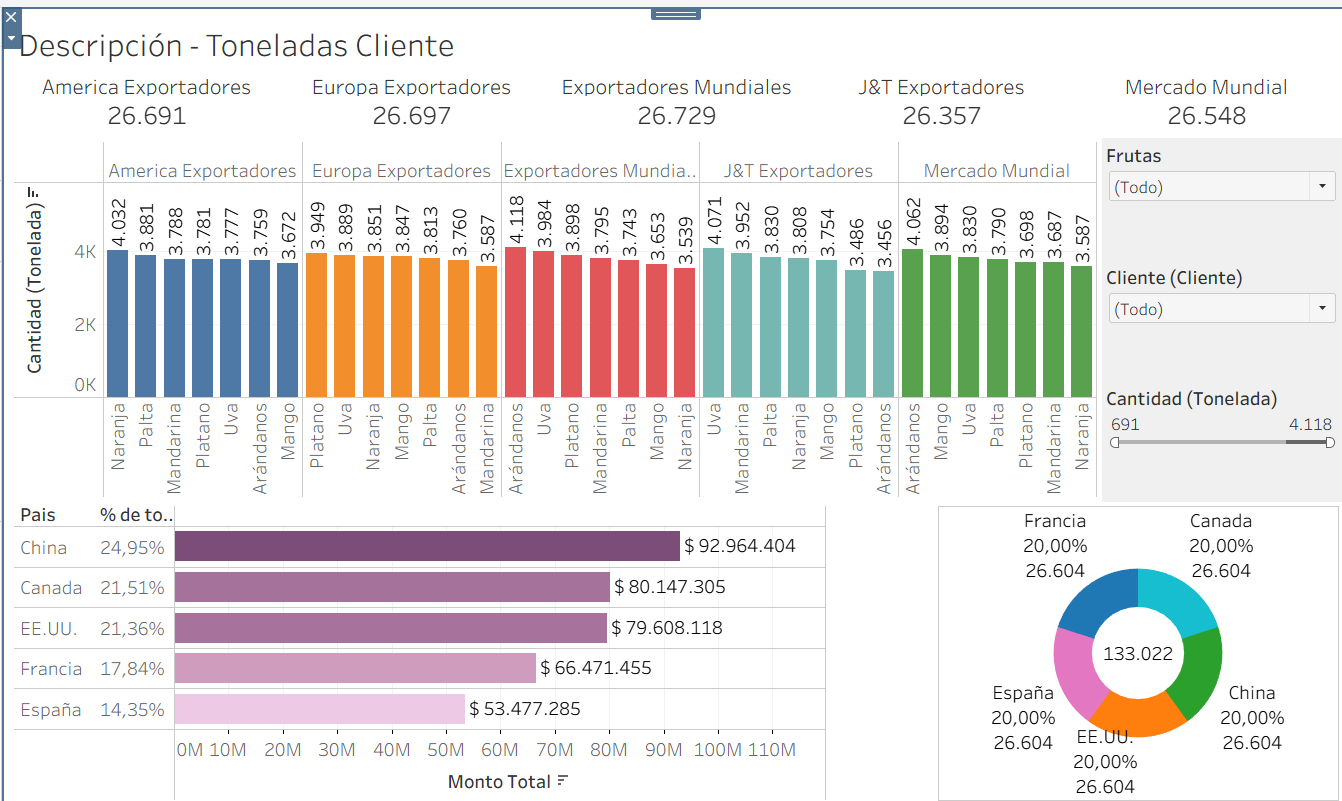

This screenshot's page, from the dashboard's own definition file:
{"tool":"tableau","page":{"name":"Dashboard Exportacion","canvas":[1000,1000],"units":"permille","ordinal":0},"visuals":[{"type":"worksheet","box":[0,0,1000,1000]},{"type":"worksheet","param":"horz","box":[6.9,13.3,986.1,973.4]},{"type":"worksheet","param":"horz","box":[6.9,13.3,986.1,973.4]},{"type":"worksheet","param":"horz","box":[6.9,13.3,986.1,973.4]},{"type":"worksheet","box":[6.9,13.3,986.1,973.4]},{"type":"worksheet","title":"Toneladas por Cliente","mark":"Automatic","cols":["Cliente"],"box":[6.9,13.3,986.1,151.1]},{"type":"worksheet","title":"Toneladas de frutas por Cliente","mark":"Automatic","rows":["Calculation_1532068304093728769"],"cols":["Cliente","Frutas"],"box":[6.9,164.4,807.9,448.5]},{"type":"worksheet","param":"vert","box":[814.9,164.4,178.2,448.5]},{"type":"worksheet","title":"Toneladas de frutas por Cliente","mark":"Automatic","rows":["Calculation_1532068304093728769"],"cols":["Cliente","Frutas"],"param":"[federated.1t2p0ub0hc6ru715wuc9b0c8myjz].[none:Frutas:nk]","box":[814.7,164.5,178.3,149.5]},{"type":"worksheet","title":"Toneladas por Cliente","mark":"Automatic","cols":["Cliente"],"param":"[federated.1t2p0ub0hc6ru715wuc9b0c8myjz].[none:Cliente:nk]","box":[814.7,313.9,178.3,149.5]},{"type":"worksheet","title":"Toneladas de frutas por Cliente","mark":"Automatic","rows":["Calculation_1532068304093728769"],"cols":["Cliente","Frutas"],"param":"[federated.1t2p0ub0hc6ru715wuc9b0c8myjz].[usr:Calculation_1532068304093728769:qk","box":[814.7,463.5,178.3,149.5]},{"type":"worksheet","title":"Monto Total y Porcentaje por Pais","mark":"Automatic","rows":["Nombres de campo de tabla dinámica - División 2","Calculation_1532068304113758212"],"cols":["Calculation_1532068304113758212"],"box":[6.9,612.9,683.9,373.9]},{"type":"worksheet","title":"Filtro de donas","mark":"Pie","cols":["Calculation_1532068304124104722","Calculation_1532068304124149780"],"box":[690.8,612.9,302.3,373.9]}]}

Visuals, with their boxes on the dashboard's canvas, which has no fixed pixel size, in thousandths of its width and height (x1, y1, x2, y2). These are canvas units, not pixel positions in the 1342x801 screenshot, which may show the page scaled, cropped or inside an application window:
worksheet: [x1=0, y1=0, x2=1000, y2=1000]
worksheet: [x1=7, y1=13, x2=993, y2=987]
worksheet: [x1=7, y1=13, x2=993, y2=987]
worksheet: [x1=7, y1=13, x2=993, y2=987]
worksheet: [x1=7, y1=13, x2=993, y2=987]
"Toneladas por Cliente" worksheet: [x1=7, y1=13, x2=993, y2=164]
"Toneladas de frutas por Cliente" worksheet: [x1=7, y1=164, x2=815, y2=613]
worksheet: [x1=815, y1=164, x2=993, y2=613]
"Toneladas de frutas por Cliente" worksheet: [x1=815, y1=164, x2=993, y2=314]
"Toneladas por Cliente" worksheet: [x1=815, y1=314, x2=993, y2=463]
"Toneladas de frutas por Cliente" worksheet: [x1=815, y1=464, x2=993, y2=613]
"Monto Total y Porcentaje por Pais" worksheet: [x1=7, y1=613, x2=691, y2=987]
"Filtro de donas" worksheet (Pie marks): [x1=691, y1=613, x2=993, y2=987]
